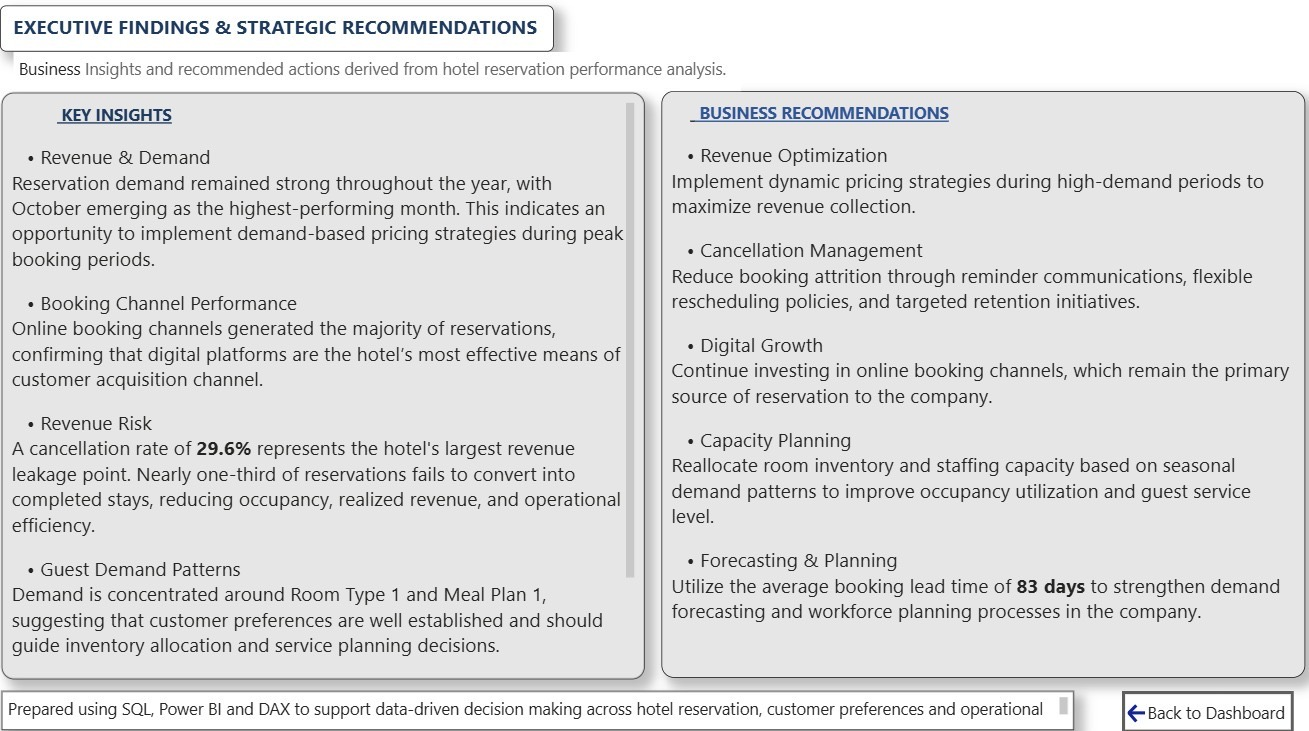

The page's visual inventory and layout, read from the dashboard file:
{"tool":"powerbi","page":{"name":"Executive Findings &Strategic Recommendation","canvas":[1280,720],"ordinal":1},"visuals":[{"type":"textbox","box":[8.9,12.5,537.5,44.6],"z":0},{"type":"textbox","box":[10.2,97.5,624,569],"z":1000},{"type":"textbox","box":[650.6,96.1,624.4,569.1],"z":2000},{"type":"textbox","box":[21.8,58.2,705.9,37.8],"z":3000},{"type":"textbox","box":[10.2,678.3,1040.7,37.8],"z":4000},{"type":"textbox","box":[1098.9,682.7,164.5,37.8],"z":5000},{"type":"actionButton","box":[1098.9,679.7,26,41],"z":6000},{"type":"actionButton","box":[1097.8,678.5,166.8,40.5],"z":7000}]}

Visuals, with their boxes in screenshot pixels (x1, y1, x2, y2), scaled from the page's 1280x720 canvas onto the 1309x731 screenshot:
textbox: [left=9, top=13, right=559, bottom=58]
textbox: [left=10, top=99, right=649, bottom=677]
textbox: [left=665, top=98, right=1304, bottom=675]
textbox: [left=22, top=59, right=744, bottom=97]
textbox: [left=10, top=689, right=1075, bottom=727]
textbox: [left=1124, top=693, right=1292, bottom=730]
actionButton: [left=1124, top=690, right=1150, bottom=730]
actionButton: [left=1123, top=689, right=1293, bottom=730]
